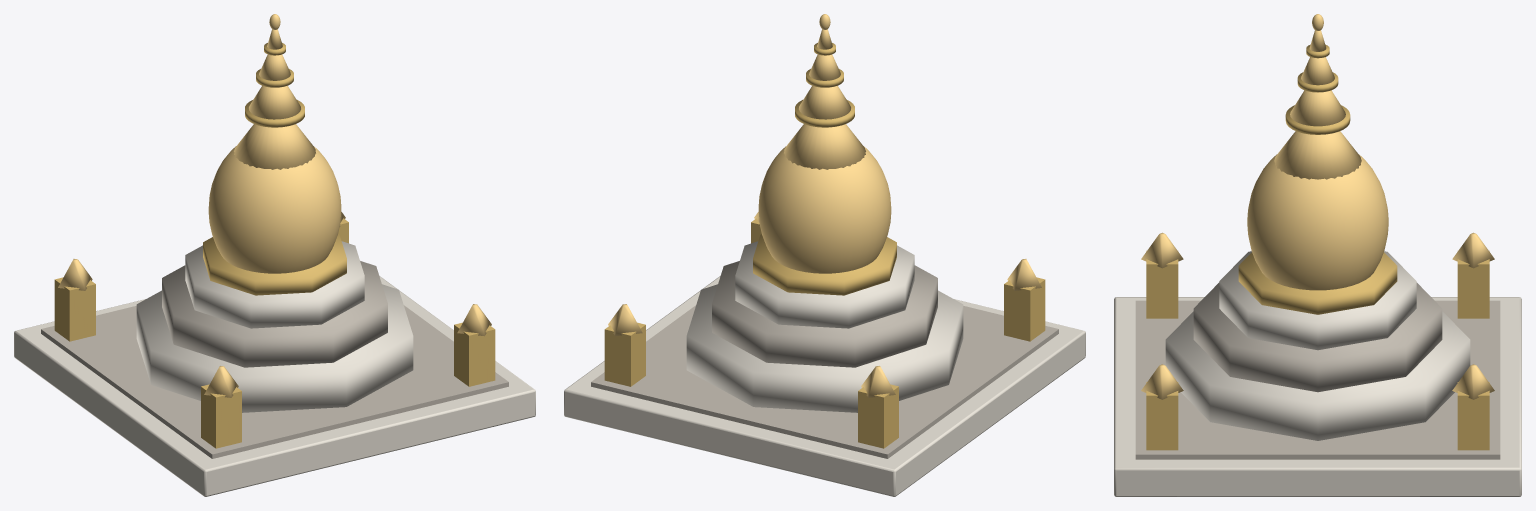
File: sule-pagoda.glb
The picture shows the model from 3 angles, left to right: view 1: azimuth 30°, elevation 25°; view 2: azimuth 150°, elevation 25°; view 3: azimuth 270°, elevation 25°; orthographic projection. The views are drawn at different scales.
Visible parts, largest first — view 1: Pagoda_Platform.001, Pagoda_PlatformTop.001, Pagoda_Tier1.001, Pagoda_Dome.001, Pagoda_Tier2.001, Pagoda_Tier3.001, Pagoda_Plinth.001, Pagoda_Spire1.001, Pagoda_Shrine.006, Pagoda_Shrine.005, Pagoda_Shrine.004, Pagoda_Spire2.001 (+5 smaller); view 2: Pagoda_Platform.001, Pagoda_PlatformTop.001, Pagoda_Tier1.001, Pagoda_Dome.001, Pagoda_Tier2.001, Pagoda_Tier3.001, Pagoda_Plinth.001, Pagoda_Spire1.001, Pagoda_Shrine.004, Pagoda_Shrine.007, Pagoda_Shrine.006, Pagoda_Spire2.001 (+5 smaller); view 3: Pagoda_Platform.001, Pagoda_PlatformTop.001, Pagoda_Tier1.001, Pagoda_Dome.001, Pagoda_Tier2.001, Pagoda_Tier3.001, Pagoda_Plinth.001, Pagoda_Spire1.001, Pagoda_Shrine.005, Pagoda_Shrine.007, Pagoda_Shrine.004, Pagoda_Shrine.006 (+7 smaller).
Part boxes in pixels (bbox=[...]): Pagoda_Platform.001: bbox=[14, 276, 535, 496]; Pagoda_PlatformTop.001: bbox=[41, 305, 508, 458]; Pagoda_Tier1.001: bbox=[136, 284, 413, 412]; Pagoda_Dome.001: bbox=[208, 146, 341, 273]; Pagoda_Tier2.001: bbox=[162, 261, 387, 367]; Pagoda_Tier3.001: bbox=[185, 241, 364, 328]; Pagoda_Plinth.001: bbox=[203, 234, 346, 295]; Pagoda_Spire1.001: bbox=[234, 124, 315, 169]; Pagoda_Shrine.006: bbox=[54, 277, 95, 341]; Pagoda_Shrine.005: bbox=[454, 322, 495, 386]; Pagoda_Shrine.004: bbox=[201, 384, 241, 448]; Pagoda_Spire2.001: bbox=[249, 85, 300, 119]; Pagoda_Platform.001: bbox=[564, 276, 1085, 496]; Pagoda_PlatformTop.001: bbox=[591, 305, 1058, 458]; Pagoda_Tier1.001: bbox=[686, 284, 963, 412]; Pagoda_Dome.001: bbox=[758, 146, 891, 273]; Pagoda_Tier2.001: bbox=[712, 261, 937, 367]; Pagoda_Tier3.001: bbox=[735, 241, 914, 328]; Pagoda_Plinth.001: bbox=[753, 234, 896, 295]; Pagoda_Spire1.001: bbox=[784, 124, 865, 169]; Pagoda_Shrine.004: bbox=[1004, 277, 1045, 341]; Pagoda_Shrine.007: bbox=[604, 322, 645, 386]; Pagoda_Shrine.006: bbox=[858, 384, 898, 448]; Pagoda_Spire2.001: bbox=[799, 85, 850, 119]; Pagoda_Platform.001: bbox=[1114, 297, 1521, 496]; Pagoda_PlatformTop.001: bbox=[1135, 300, 1500, 459]; Pagoda_Tier1.001: bbox=[1165, 311, 1470, 440]; Pagoda_Dome.001: bbox=[1247, 154, 1388, 290]; Pagoda_Tier2.001: bbox=[1193, 282, 1442, 392]; Pagoda_Tier3.001: bbox=[1219, 251, 1416, 350]; Pagoda_Plinth.001: bbox=[1238, 252, 1397, 314]; Pagoda_Spire1.001: bbox=[1274, 131, 1361, 179]; Pagoda_Shrine.005: bbox=[1146, 382, 1178, 450]; Pagoda_Shrine.007: bbox=[1457, 382, 1489, 450]; Pagoda_Shrine.004: bbox=[1146, 250, 1178, 318]; Pagoda_Shrine.006: bbox=[1457, 250, 1489, 318].
Size of the model in its own units: 42.79 by 46 by 42.79.
